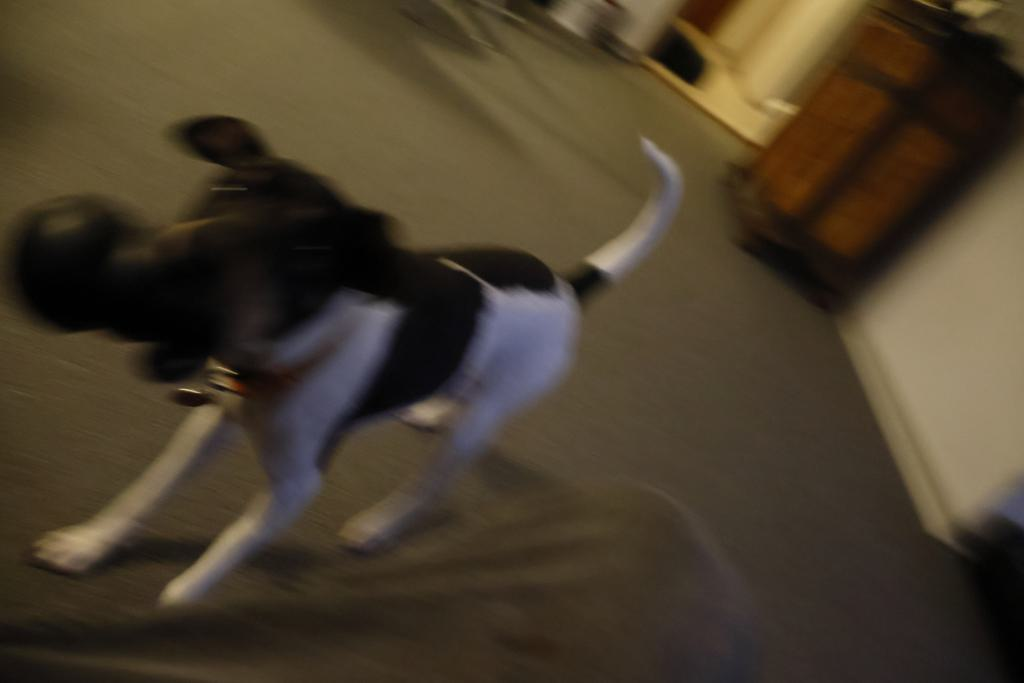Dog: (23, 100, 691, 622)
Humanoid: (0, 451, 792, 683)
